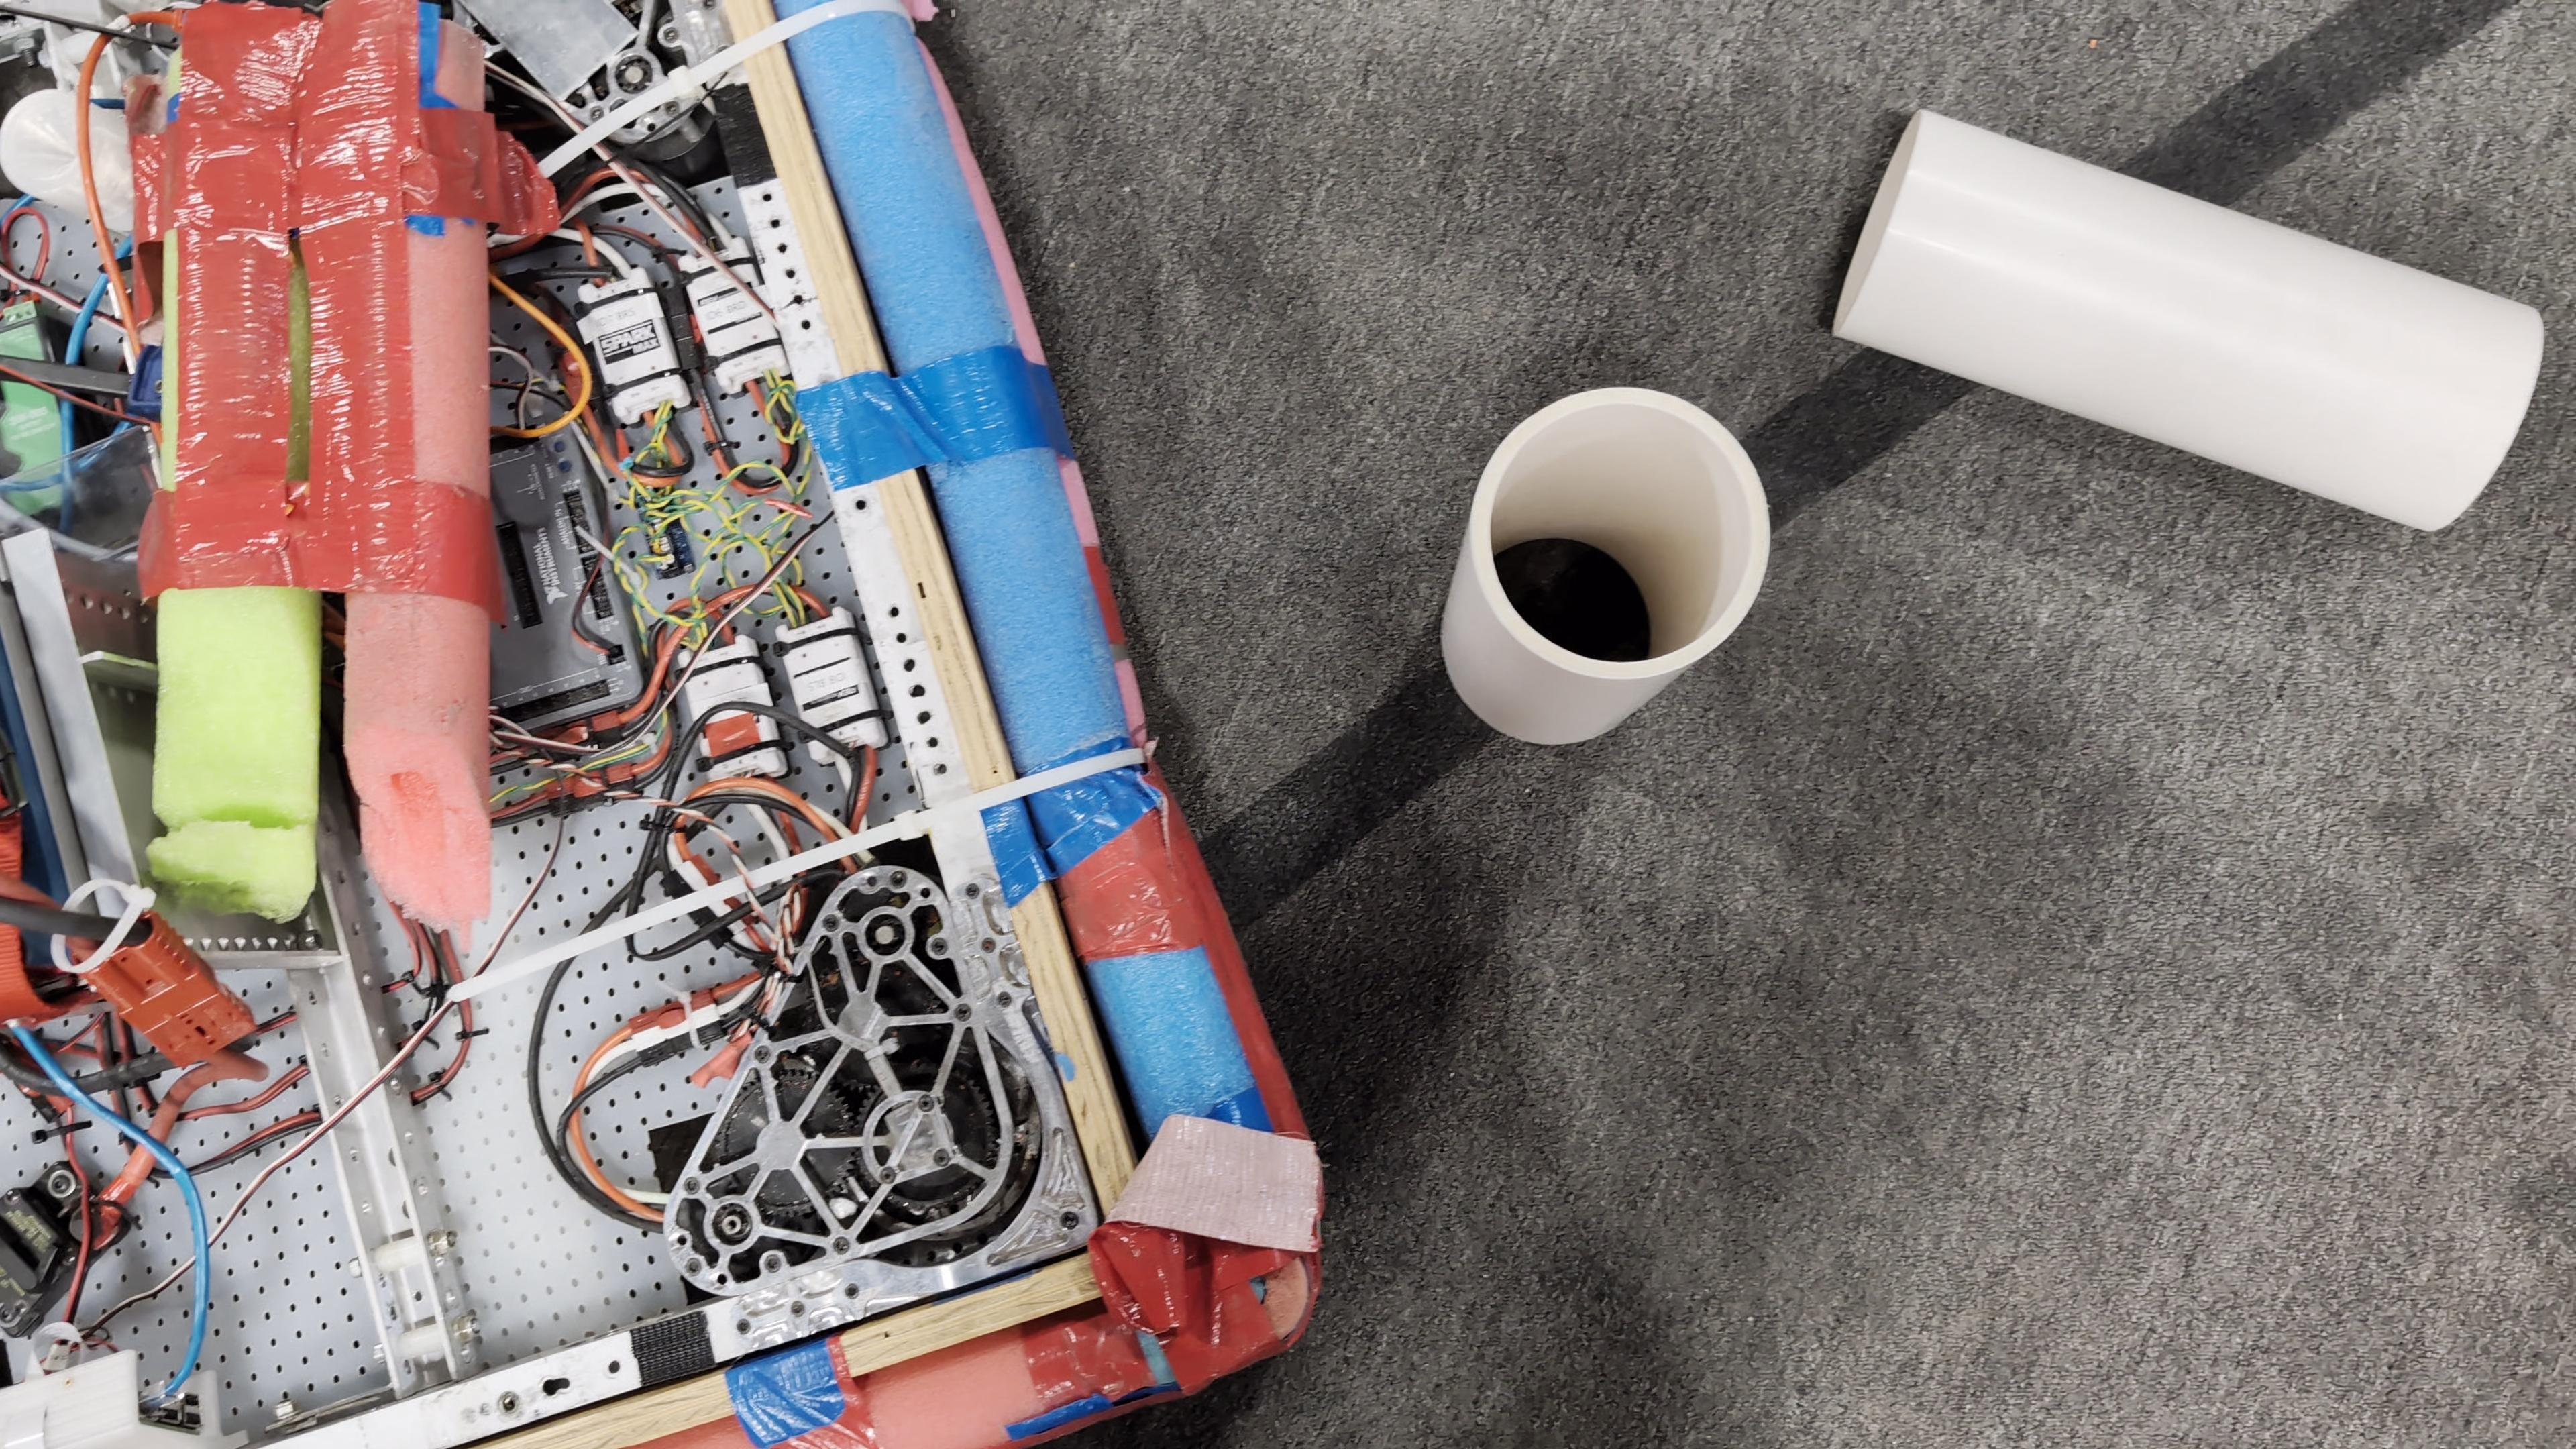coral: (1831, 104, 2549, 536), (1442, 387, 1769, 747)
